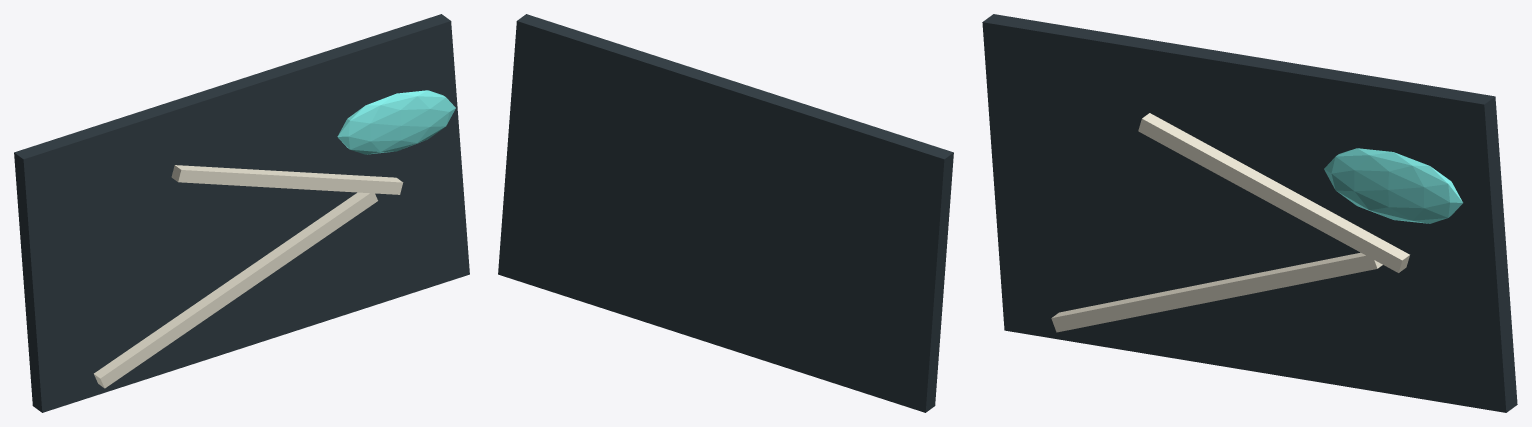
Rendered from 06_weathering_wear_overlay_6.glb.
The picture shows the model from 3 angles, left to right: view 1: azimuth 30°, elevation 25°; view 2: azimuth 150°, elevation 25°; view 3: azimuth 330°, elevation 25°; orthographic projection. The views are drawn at different scales.
Parts seen in each view (by area): view 1: wear_plate, scratch_a, rust_or_moss_spot, scratch_b; view 2: wear_plate; view 3: wear_plate, rust_or_moss_spot, scratch_b, scratch_a.
Part boxes in pixels (<box>): wear_plate: <box>14,14,469,412</box>; scratch_a: <box>94,192,377,388</box>; rust_or_moss_spot: <box>337,90,455,154</box>; scratch_b: <box>171,165,403,194</box>; wear_plate: <box>498,14,953,412</box>; wear_plate: <box>982,14,1517,412</box>; rust_or_moss_spot: <box>1324,148,1462,223</box>; scratch_b: <box>1138,113,1409,272</box>; scratch_a: <box>1051,252,1382,332</box>.
Size of the model in its own units: 1.35 by 0.8467 by 0.134.
